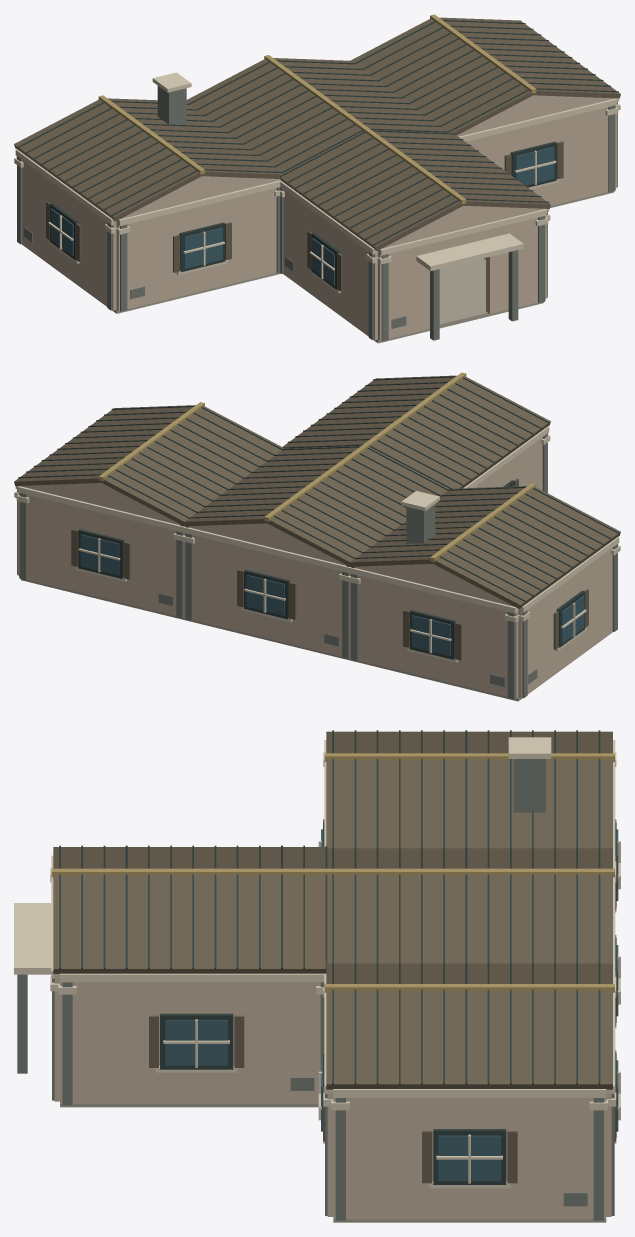
File: FSA_ENV_Protected_04_ReceptionVilla.glb
3 views of the same model, one above another, from view 1: azimuth 30°, elevation 25°; view 2: azimuth 150°, elevation 25°; view 3: azimuth 270°, elevation 25° (orthographic). The views are drawn at different scales.
Parts seen in each view (by area): view 1: PitchedRoof_55, PitchedRoof_377, PitchedRoof_266, PitchedRoof_148, PitchedRoof_280, PitchedRoof_391, PitchedRoof_162, PitchedRoof_69, Wall_1, Wall_216, Wall_2, Wall_334 (+43 smaller); view 2: PitchedRoof_55, PitchedRoof_377, PitchedRoof_266, PitchedRoof_148, PitchedRoof_280, PitchedRoof_162, PitchedRoof_391, Wall_21, Wall_250, PitchedRoof_69, Wall_249, Wall_22 (+40 smaller); view 3: PitchedRoof_280, PitchedRoof_391, PitchedRoof_162, PitchedRoof_69, Wall_344, Wall_233, Wall_232, Wall_343, PitchedRoof_377, PitchedRoof_266, PitchedRoof_148, PitchedRoof_55 (+26 smaller).
Boxes of the visible parts, x1=… form: PitchedRoof_55: x1=14, y1=99, x2=202, y2=221; PitchedRoof_377: x1=280, y1=132, x2=463, y2=250; PitchedRoof_266: x1=350, y1=18, x2=533, y2=135; PitchedRoof_148: x1=186, y1=59, x2=363, y2=179; PitchedRoof_280: x1=439, y1=17, x2=620, y2=98; PitchedRoof_391: x1=369, y1=128, x2=550, y2=208; PitchedRoof_162: x1=273, y1=58, x2=444, y2=130; PitchedRoof_69: x1=108, y1=98, x2=283, y2=178; Wall_1: x1=116, y1=211, x2=181, y2=311; Wall_216: x1=552, y1=105, x2=615, y2=205; Wall_2: x1=221, y1=188, x2=276, y2=286; Wall_334: x1=378, y1=242, x2=435, y2=340; PitchedRoof_55: x1=432, y1=487, x2=620, y2=608; PitchedRoof_377: x1=365, y1=376, x2=550, y2=491; PitchedRoof_266: x1=101, y1=406, x2=284, y2=527; PitchedRoof_148: x1=267, y1=450, x2=448, y2=568; PitchedRoof_280: x1=14, y1=405, x2=195, y2=485; PitchedRoof_162: x1=179, y1=445, x2=360, y2=526; PitchedRoof_391: x1=283, y1=375, x2=456, y2=447; Wall_21: x1=453, y1=598, x2=518, y2=698; Wall_250: x1=19, y1=492, x2=82, y2=592; PitchedRoof_69: x1=345, y1=486, x2=526, y2=566; Wall_249: x1=121, y1=518, x2=184, y2=617; Wall_22: x1=350, y1=574, x2=413, y2=673; PitchedRoof_280: x1=326, y1=991, x2=612, y2=1089; PitchedRoof_391: x1=53, y1=875, x2=339, y2=973; PitchedRoof_162: x1=327, y1=875, x2=612, y2=963; PitchedRoof_69: x1=326, y1=760, x2=612, y2=848; Wall_344: x1=60, y1=982, x2=164, y2=1103; Wall_233: x1=333, y1=1098, x2=437, y2=1219; Wall_232: x1=502, y1=1098, x2=606, y2=1219; Wall_343: x1=229, y1=982, x2=320, y2=1103; PitchedRoof_377: x1=53, y1=847, x2=339, y2=868; PitchedRoof_266: x1=326, y1=963, x2=612, y2=983; PitchedRoof_148: x1=327, y1=848, x2=612, y2=868; PitchedRoof_55: x1=326, y1=731, x2=612, y2=753.
Size of the model in its own units: 24.86 by 7.03 by 17.78.
